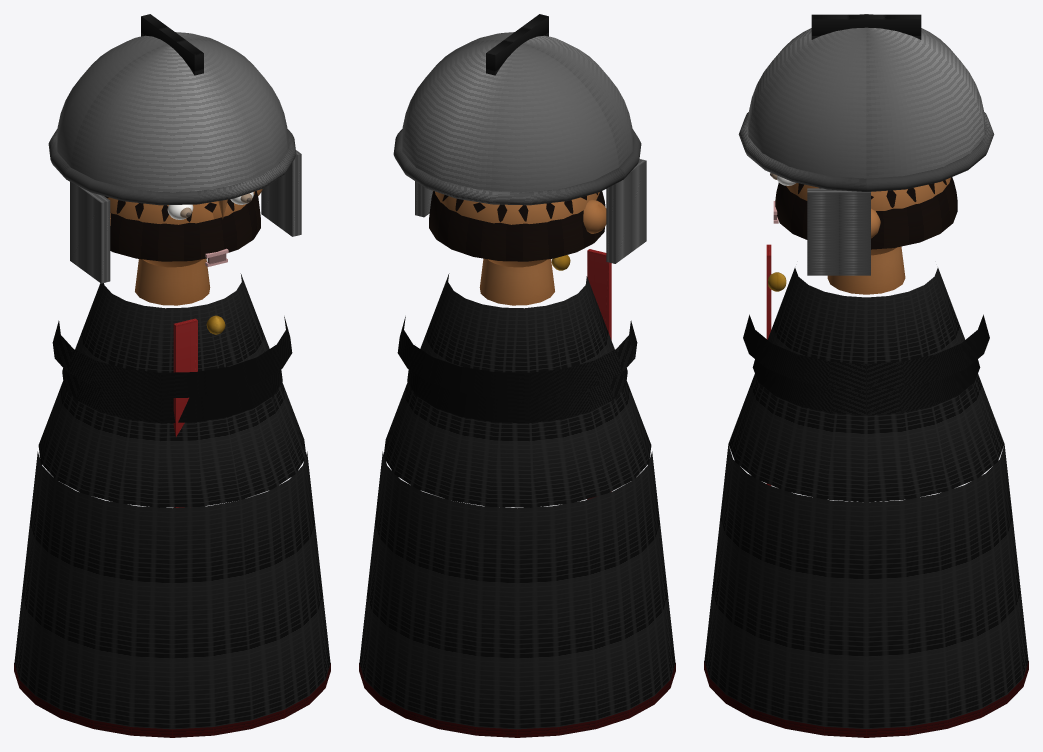
The model's file is centurion_longinus.glb.
3 renders of one model, left to right at view 1: azimuth 30°, elevation 25°; view 2: azimuth 150°, elevation 25°; view 3: azimuth 270°, elevation 25°, orthographic. The views are drawn at different scales.
Parts seen in each view (by area): view 1: Character_centurion_longinus, head; view 2: Character_centurion_longinus, head; view 3: Character_centurion_longinus, head.
Part boxes in pixels (box(x1,y1,x2,y2)): Character_centurion_longinus: box(14, 14, 330, 737); head: box(107, 191, 254, 267); Character_centurion_longinus: box(359, 14, 675, 737); head: box(435, 191, 599, 267); Character_centurion_longinus: box(704, 14, 1028, 737); head: box(786, 177, 950, 255).
Size of the model in its own units: 0.8126 by 1.8 by 0.8126.
Materials: 16 (11 with a texture image).
